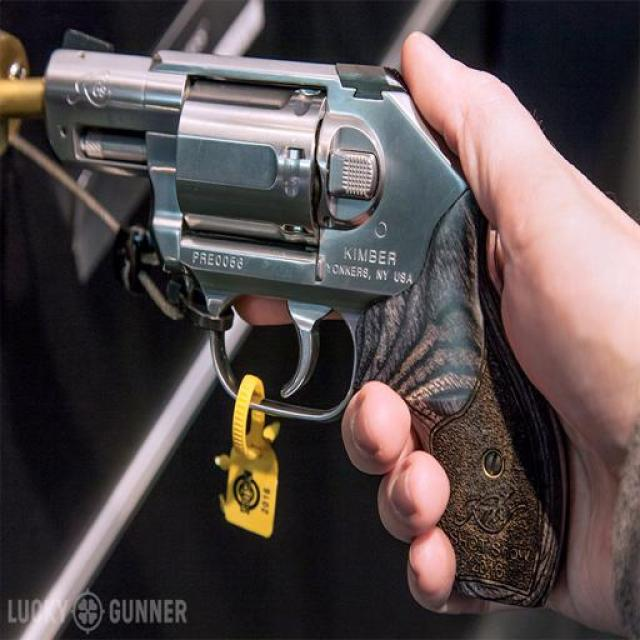pistol: (44, 26, 570, 605)
